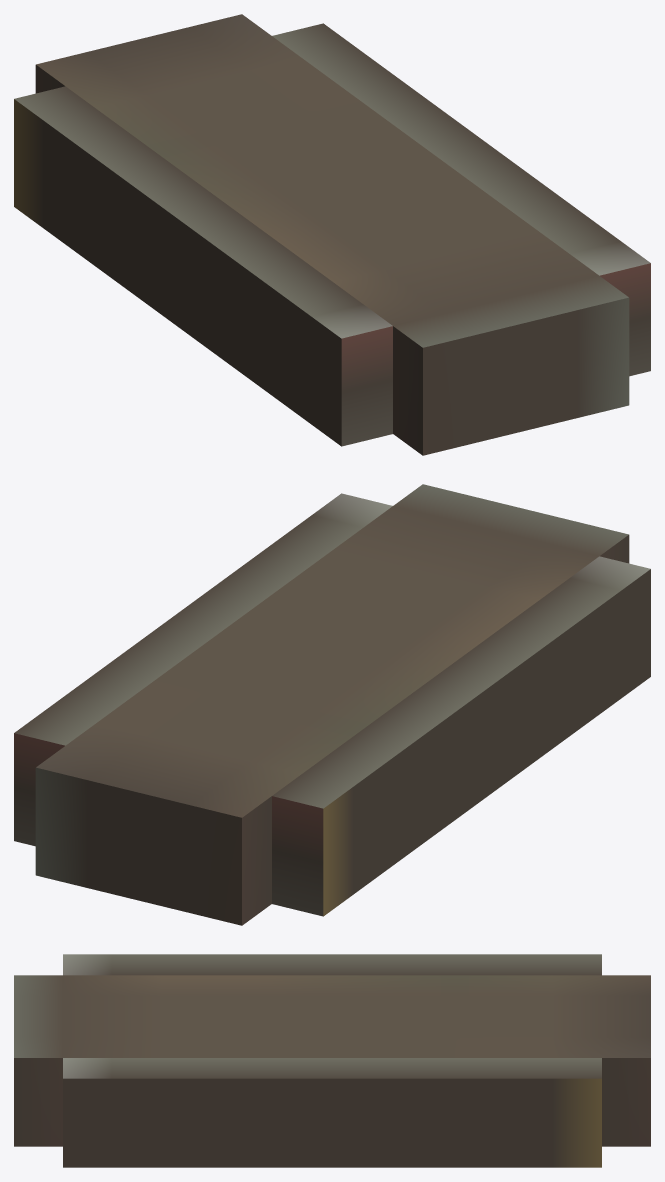
Rendered from PillowDarkBrown_01.fbx.
3 renders of one model, top to bottom at view 1: azimuth 30°, elevation 25°; view 2: azimuth 150°, elevation 25°; view 3: azimuth 270°, elevation 25°, orthographic. The views are drawn at different scales.
Parts seen in each view (by area): view 1: PillowDarkBrown_01; view 2: PillowDarkBrown_01; view 3: PillowDarkBrown_01.
Part boxes in pixels (box(x1,y1,x2,y2)): PillowDarkBrown_01: box(14, 14, 650, 455); PillowDarkBrown_01: box(14, 484, 650, 925); PillowDarkBrown_01: box(14, 954, 650, 1167).
Size of the model in its own units: 30 by 65 by 10.
1 material, 1 textured.
